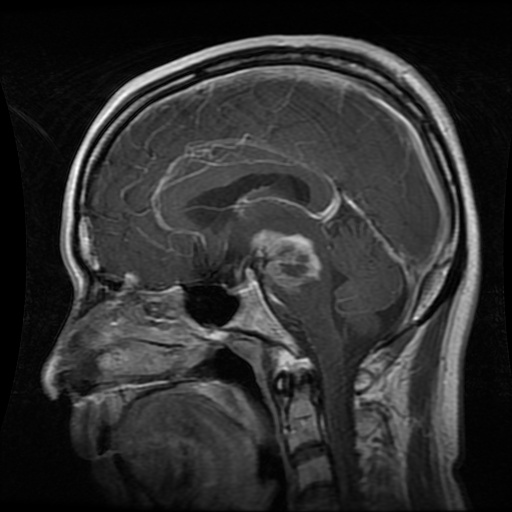glioma: (248, 225, 322, 295)
